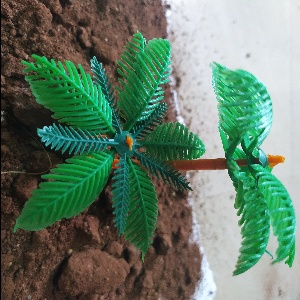plant: (24, 37, 298, 281)
